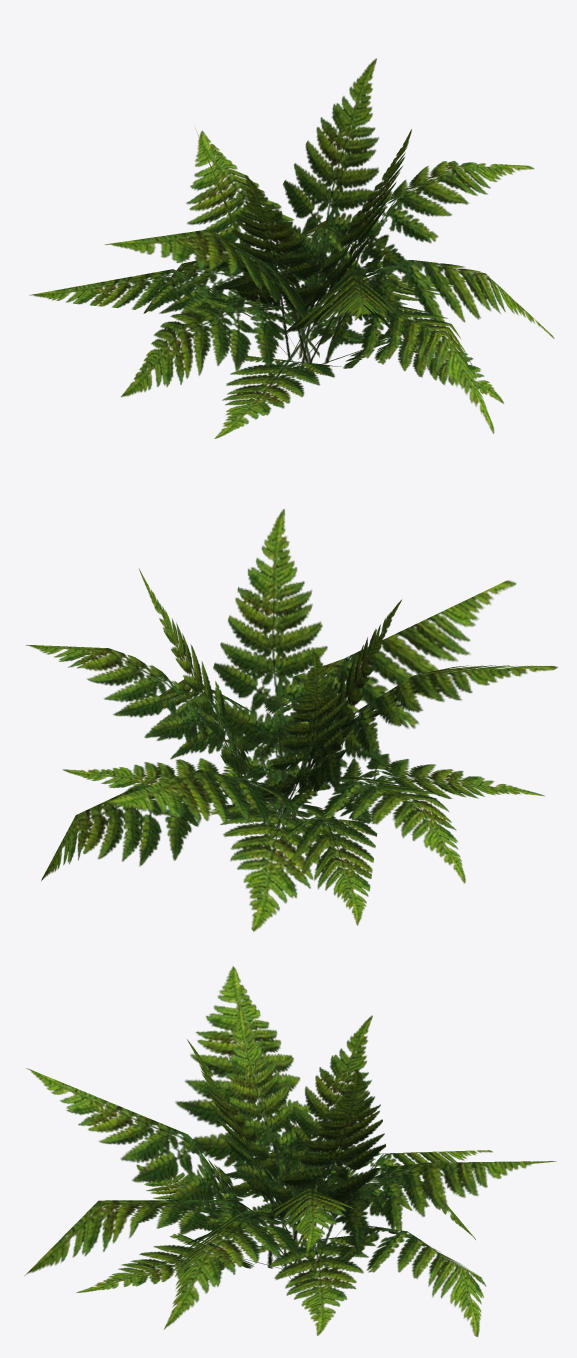
Rendered from bush905.glb.
3 renders of one model, top to bottom at view 1: azimuth 30°, elevation 25°; view 2: azimuth 150°, elevation 25°; view 3: azimuth 270°, elevation 25°, orthographic. The views are drawn at different scales.
Parts seen in each view (by area): view 1: bush905; view 2: bush905; view 3: bush905.
Part boxes in pixels (box(x1,y1,x2,y2)): bush905: box(29, 58, 554, 438); bush905: box(26, 509, 557, 931); bush905: box(24, 966, 556, 1336).
Size of the model in its own units: 2.66 by 1.7 by 2.69.
1 material, 1 textured.
